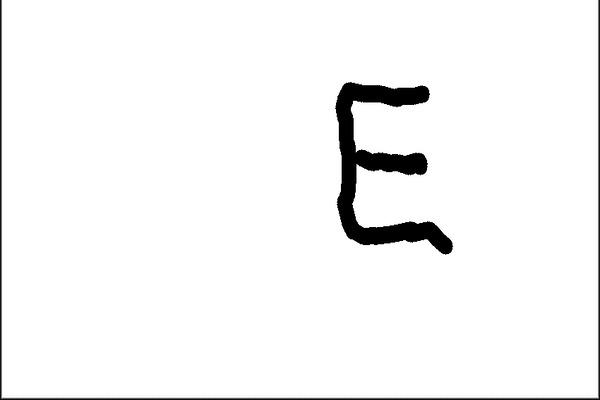E: (326, 73, 461, 261)
